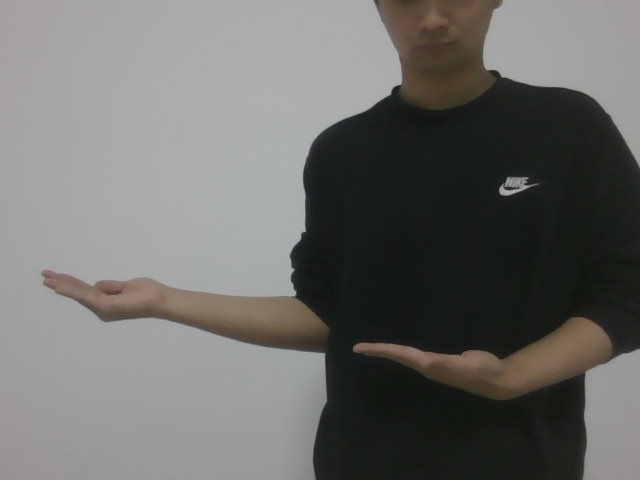please: (48, 255, 529, 417)
